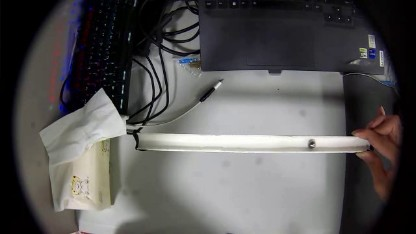gangzhu: (308, 139, 315, 149)
